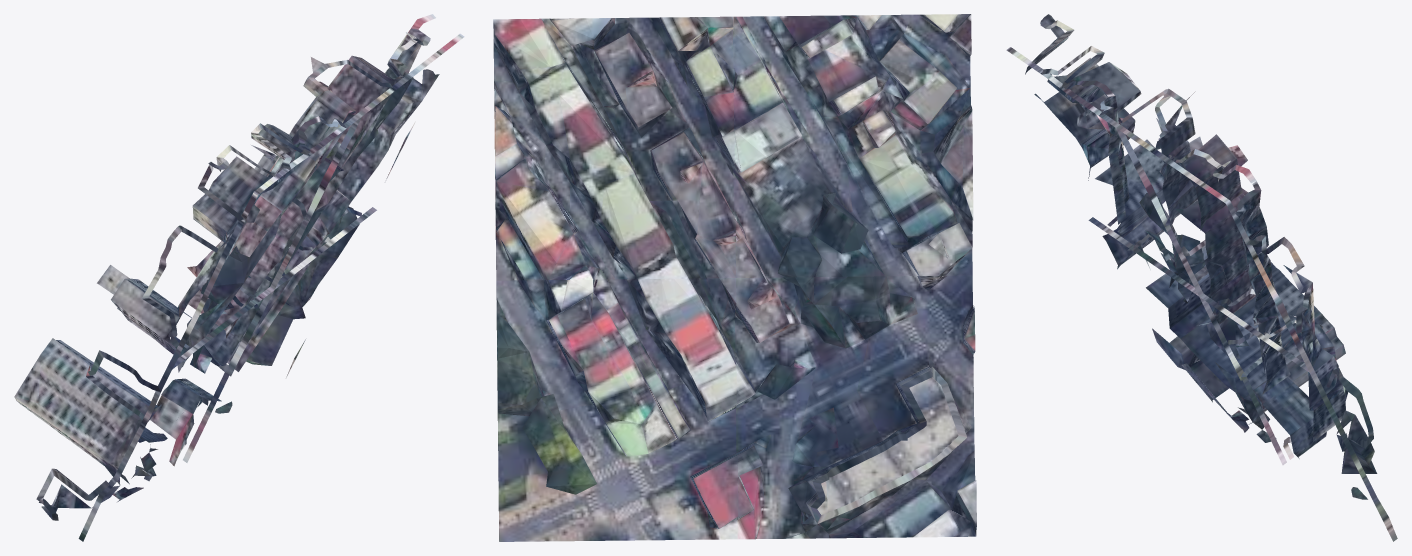
The picture shows the model from 3 angles, left to right: view 1: azimuth 30°, elevation 25°; view 2: azimuth 150°, elevation 25°; view 3: azimuth 270°, elevation 25°; orthographic projection. The views are drawn at different scales.
Size of the model in its own units: 164 by 149 by 128.
Materials: 1 (1 with a texture image).
